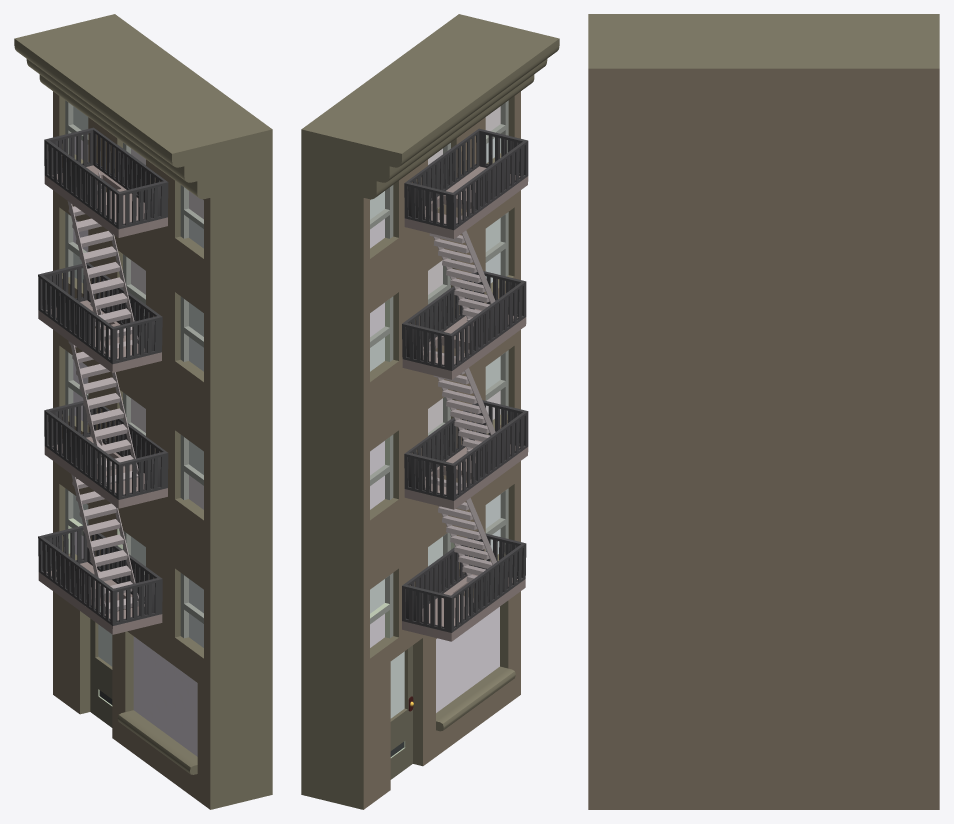
File: KA_facade_n5.fbx
3 renders of one model, left to right at view 1: azimuth 30°, elevation 25°; view 2: azimuth 150°, elevation 25°; view 3: azimuth 270°, elevation 25°, orthographic. The views are drawn at different scales.
Parts seen in each view (by area): view 1: Box004; view 2: Box004; view 3: Box004.
Boxes of the visible parts, bbox=[...] form: Box004: bbox=[14, 14, 272, 809]; Box004: bbox=[301, 14, 559, 809]; Box004: bbox=[588, 14, 939, 809].
Bounding box in the file's own units: 68.64 × 384 × 165.
